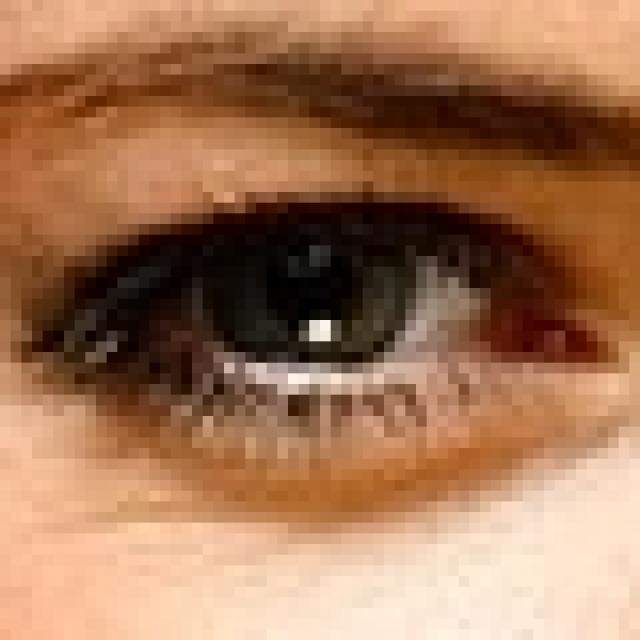eye: (0, 176, 640, 492)
